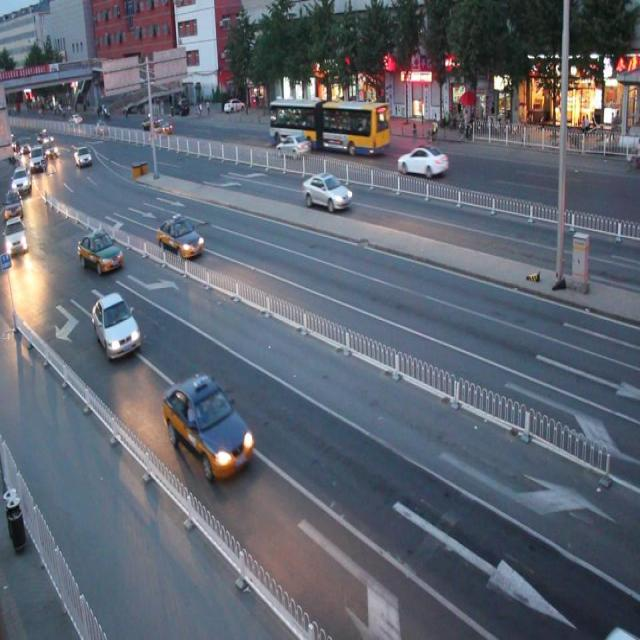car: (162, 369, 253, 481), (91, 290, 140, 363), (302, 171, 351, 213), (158, 213, 202, 259), (77, 228, 121, 271), (396, 142, 448, 178), (276, 132, 310, 155)
van: (267, 92, 389, 157)
